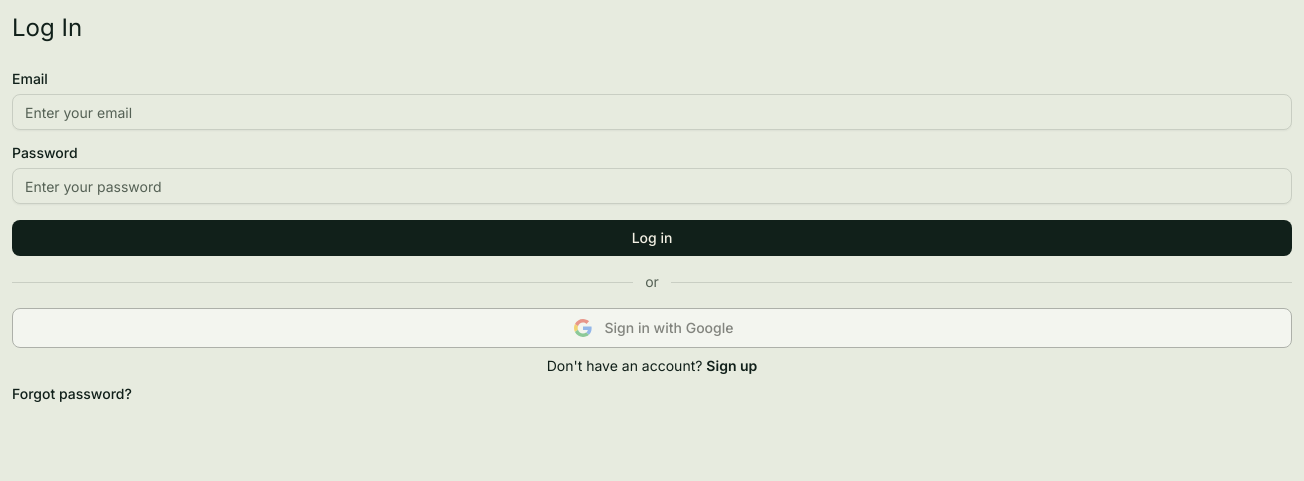
Test: LoginForm › on submit › shows error message when login fails
The image size is (1304, 481).
Type "valid@email.com" into the field labelled "Email".
click(652, 112); type("valid@email.com")  # box [12, 94, 1292, 130]
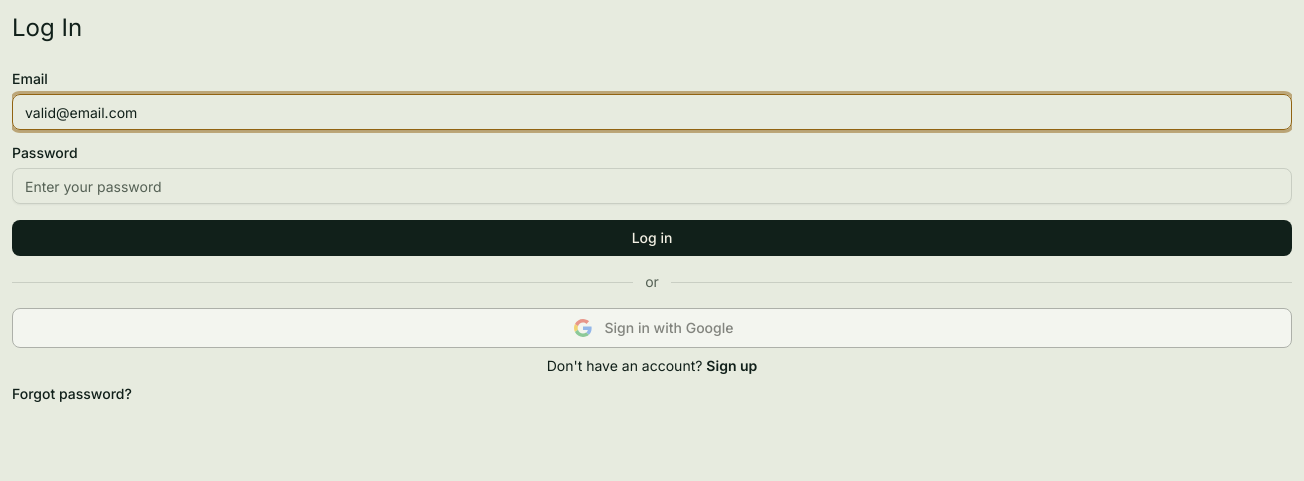
Type "password1" into the password field labelled "Password".
click(652, 186); type("password1")  # box [12, 168, 1292, 204]
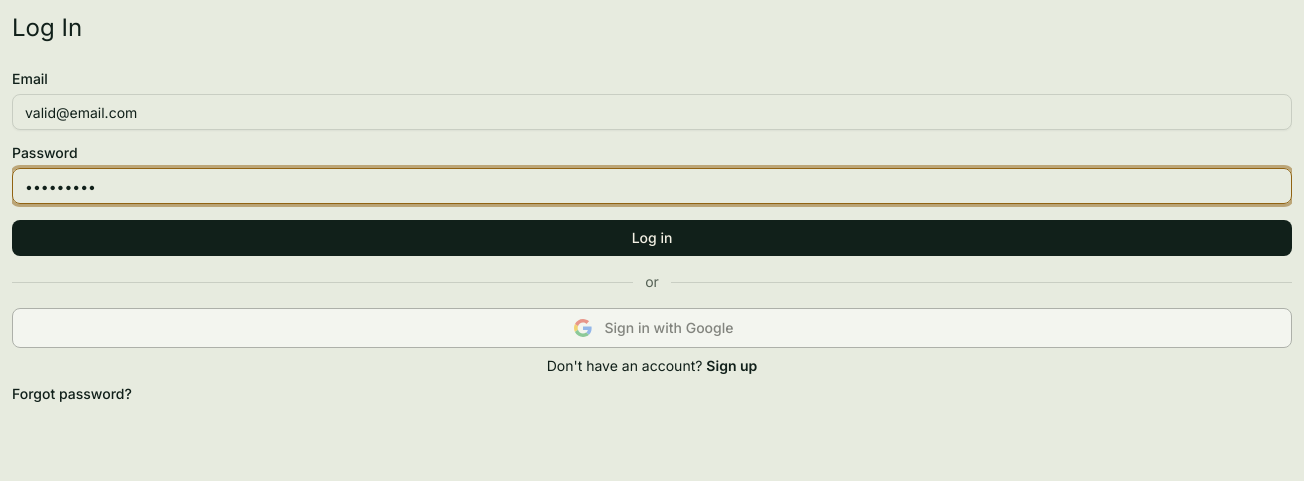
Click the button "Log in".
click(652, 238)  # box [12, 220, 1292, 256]
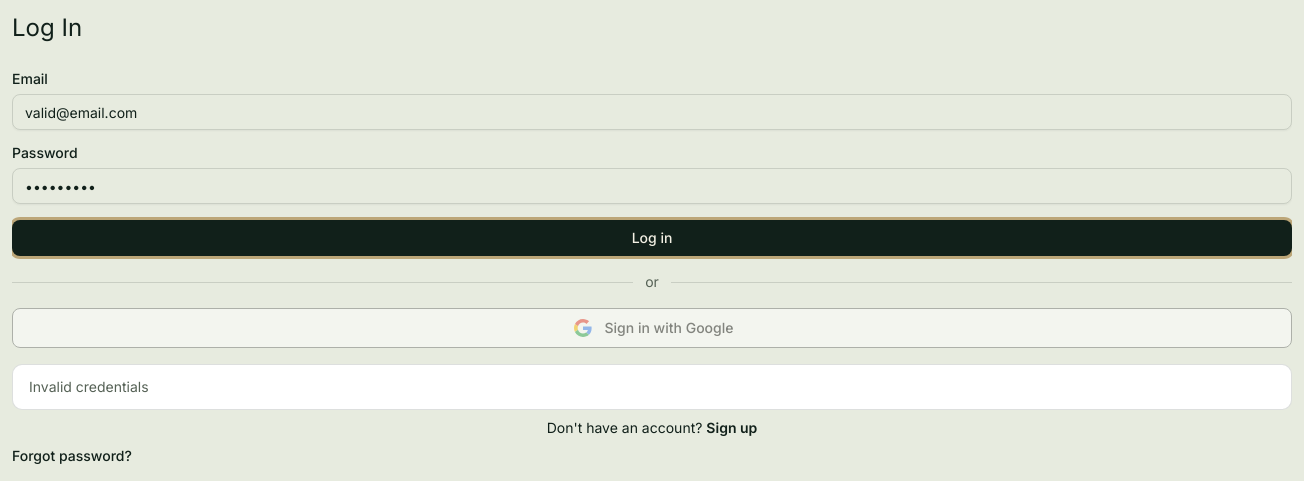
Expected: the text "Invalid credentials" is shown, [29, 378, 149, 395]
